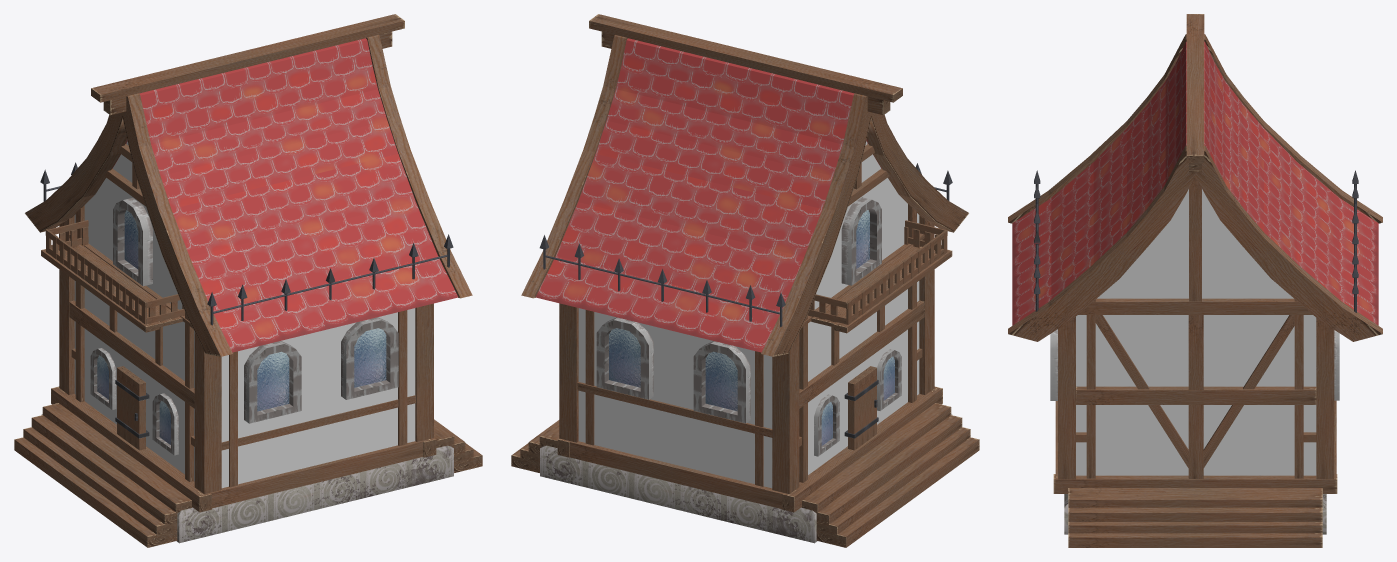
The model's file is 집 만드는 중3.fbx.
3 views of the same model, side by side, from view 1: azimuth 30°, elevation 25°; view 2: azimuth 150°, elevation 25°; view 3: azimuth 270°, elevation 25° (orthographic). The views are drawn at different scales.
Parts seen in each view (by area): view 1: Box037, Line007, Box328, Box339, Box011, Box380, Box384; view 2: Box037, Line007, Box328, Box339, Box011, Box380, Box384; view 3: Box037, Box328, Line007, Box384, Box339.
Boxes of the visible parts, x1,y1,x2,y2 form: Box037: [14, 14, 482, 547]; Line007: [112, 38, 458, 352]; Box328: [74, 141, 415, 488]; Box339: [90, 198, 398, 455]; Box011: [41, 414, 453, 543]; Box380: [97, 210, 386, 444]; Box384: [40, 162, 453, 438]; Box037: [511, 14, 979, 547]; Line007: [535, 38, 881, 352]; Box328: [578, 141, 919, 488]; Box339: [596, 197, 901, 456]; Box011: [540, 414, 952, 543]; Box380: [609, 210, 894, 445]; Box384: [539, 163, 952, 438]; Box037: [1008, 14, 1382, 547]; Box328: [1076, 189, 1316, 475]; Line007: [1012, 41, 1378, 325]; Box384: [1034, 170, 1358, 312]; Box339: [1050, 329, 1339, 400].
Size of the model in its own units: 143 by 166 by 146.
